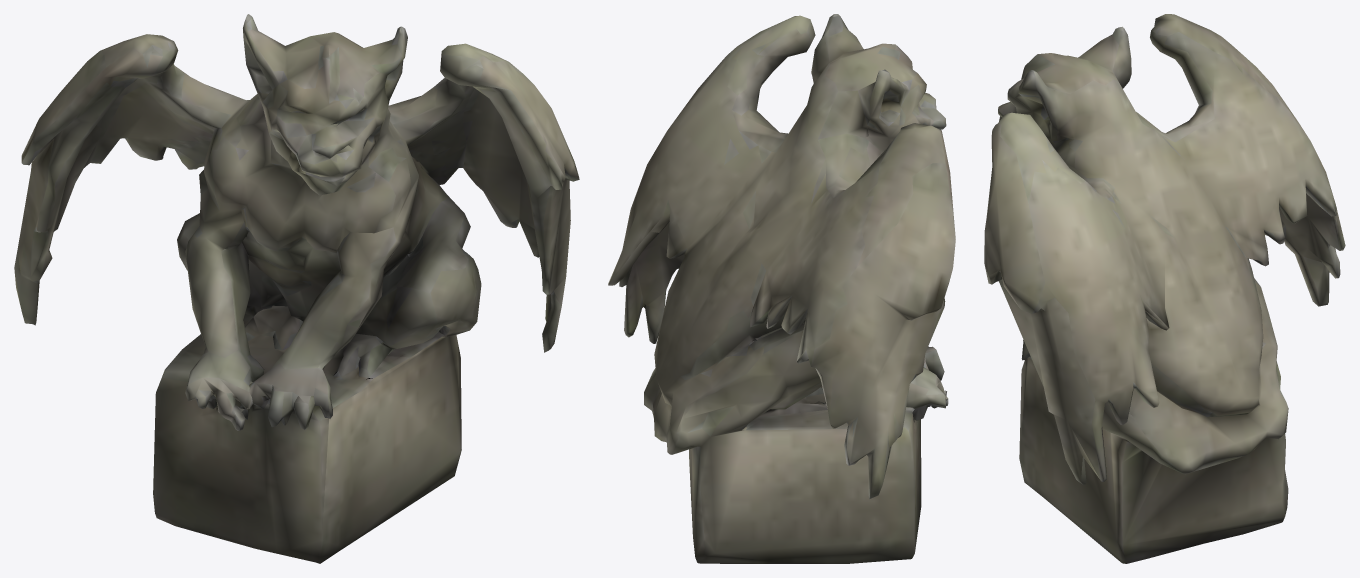
Rendered from chipped-limestone-gargoyle-v001.glb.
The picture shows the model from 3 angles, left to right: view 1: azimuth 30°, elevation 25°; view 2: azimuth 150°, elevation 25°; view 3: azimuth 270°, elevation 25°; orthographic projection. The views are drawn at different scales.
Visible parts, largest first — view 1: chipped-limestone-gargoyle; view 2: chipped-limestone-gargoyle; view 3: chipped-limestone-gargoyle.
Part boxes in pixels (x1,y1,x2,y2): chipped-limestone-gargoyle: (14, 14, 579, 563); chipped-limestone-gargoyle: (608, 14, 955, 563); chipped-limestone-gargoyle: (984, 14, 1345, 563).
Bounding box in the file's own units: 1.03 × 1.14 × 0.8264.
1 material, 1 textured.
